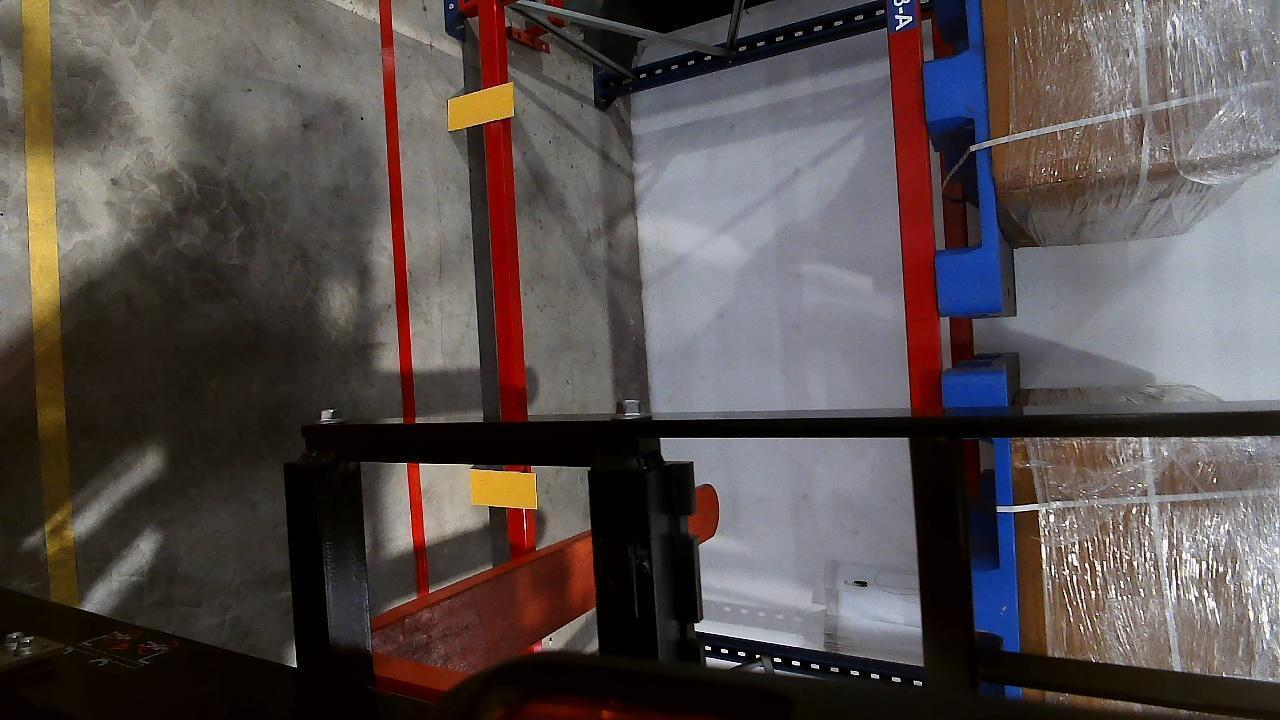red_line: (378, 0, 428, 595)
yellow_line: (17, 0, 75, 605)
